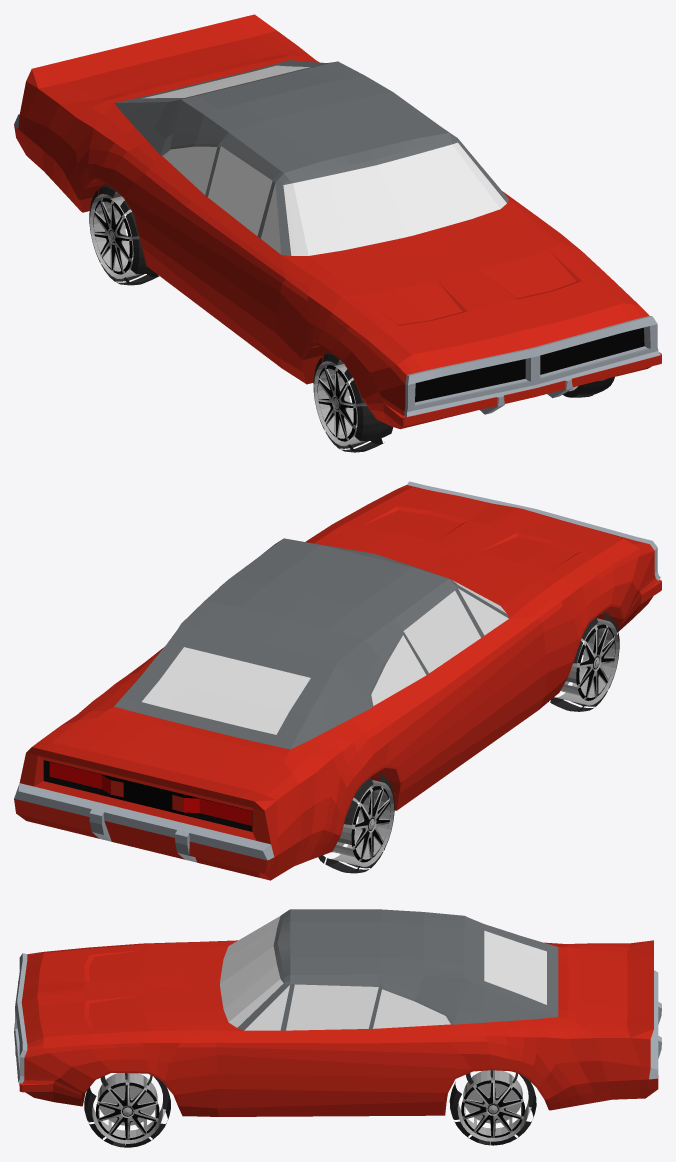
Rendered from charger.glb.
The picture shows the model from 3 angles, top to bottom: view 1: azimuth 30°, elevation 25°; view 2: azimuth 150°, elevation 25°; view 3: azimuth 270°, elevation 25°; orthographic projection. The views are drawn at different scales.
Visible parts, largest first — view 1: Plane_Plane.002, Circle.002, Circle.001; view 2: Plane_Plane.002, Circle.001, Circle.002; view 3: Plane_Plane.002, Circle.004, Circle.003.
Part boxes in pixels (x1,y1,x2,y2): Plane_Plane.002: (14,14,661,429); Circle.002: (313,352,393,452); Circle.001: (89,184,159,285); Plane_Plane.002: (14,481,661,880); Circle.001: (318,772,394,873); Circle.002: (550,611,619,711); Plane_Plane.002: (14,909,661,1116); Circle.004: (449,1070,536,1145); Circle.003: (84,1073,170,1147).
Bounding box in the file's own units: 2.56 × 1.77 × 6.48.
